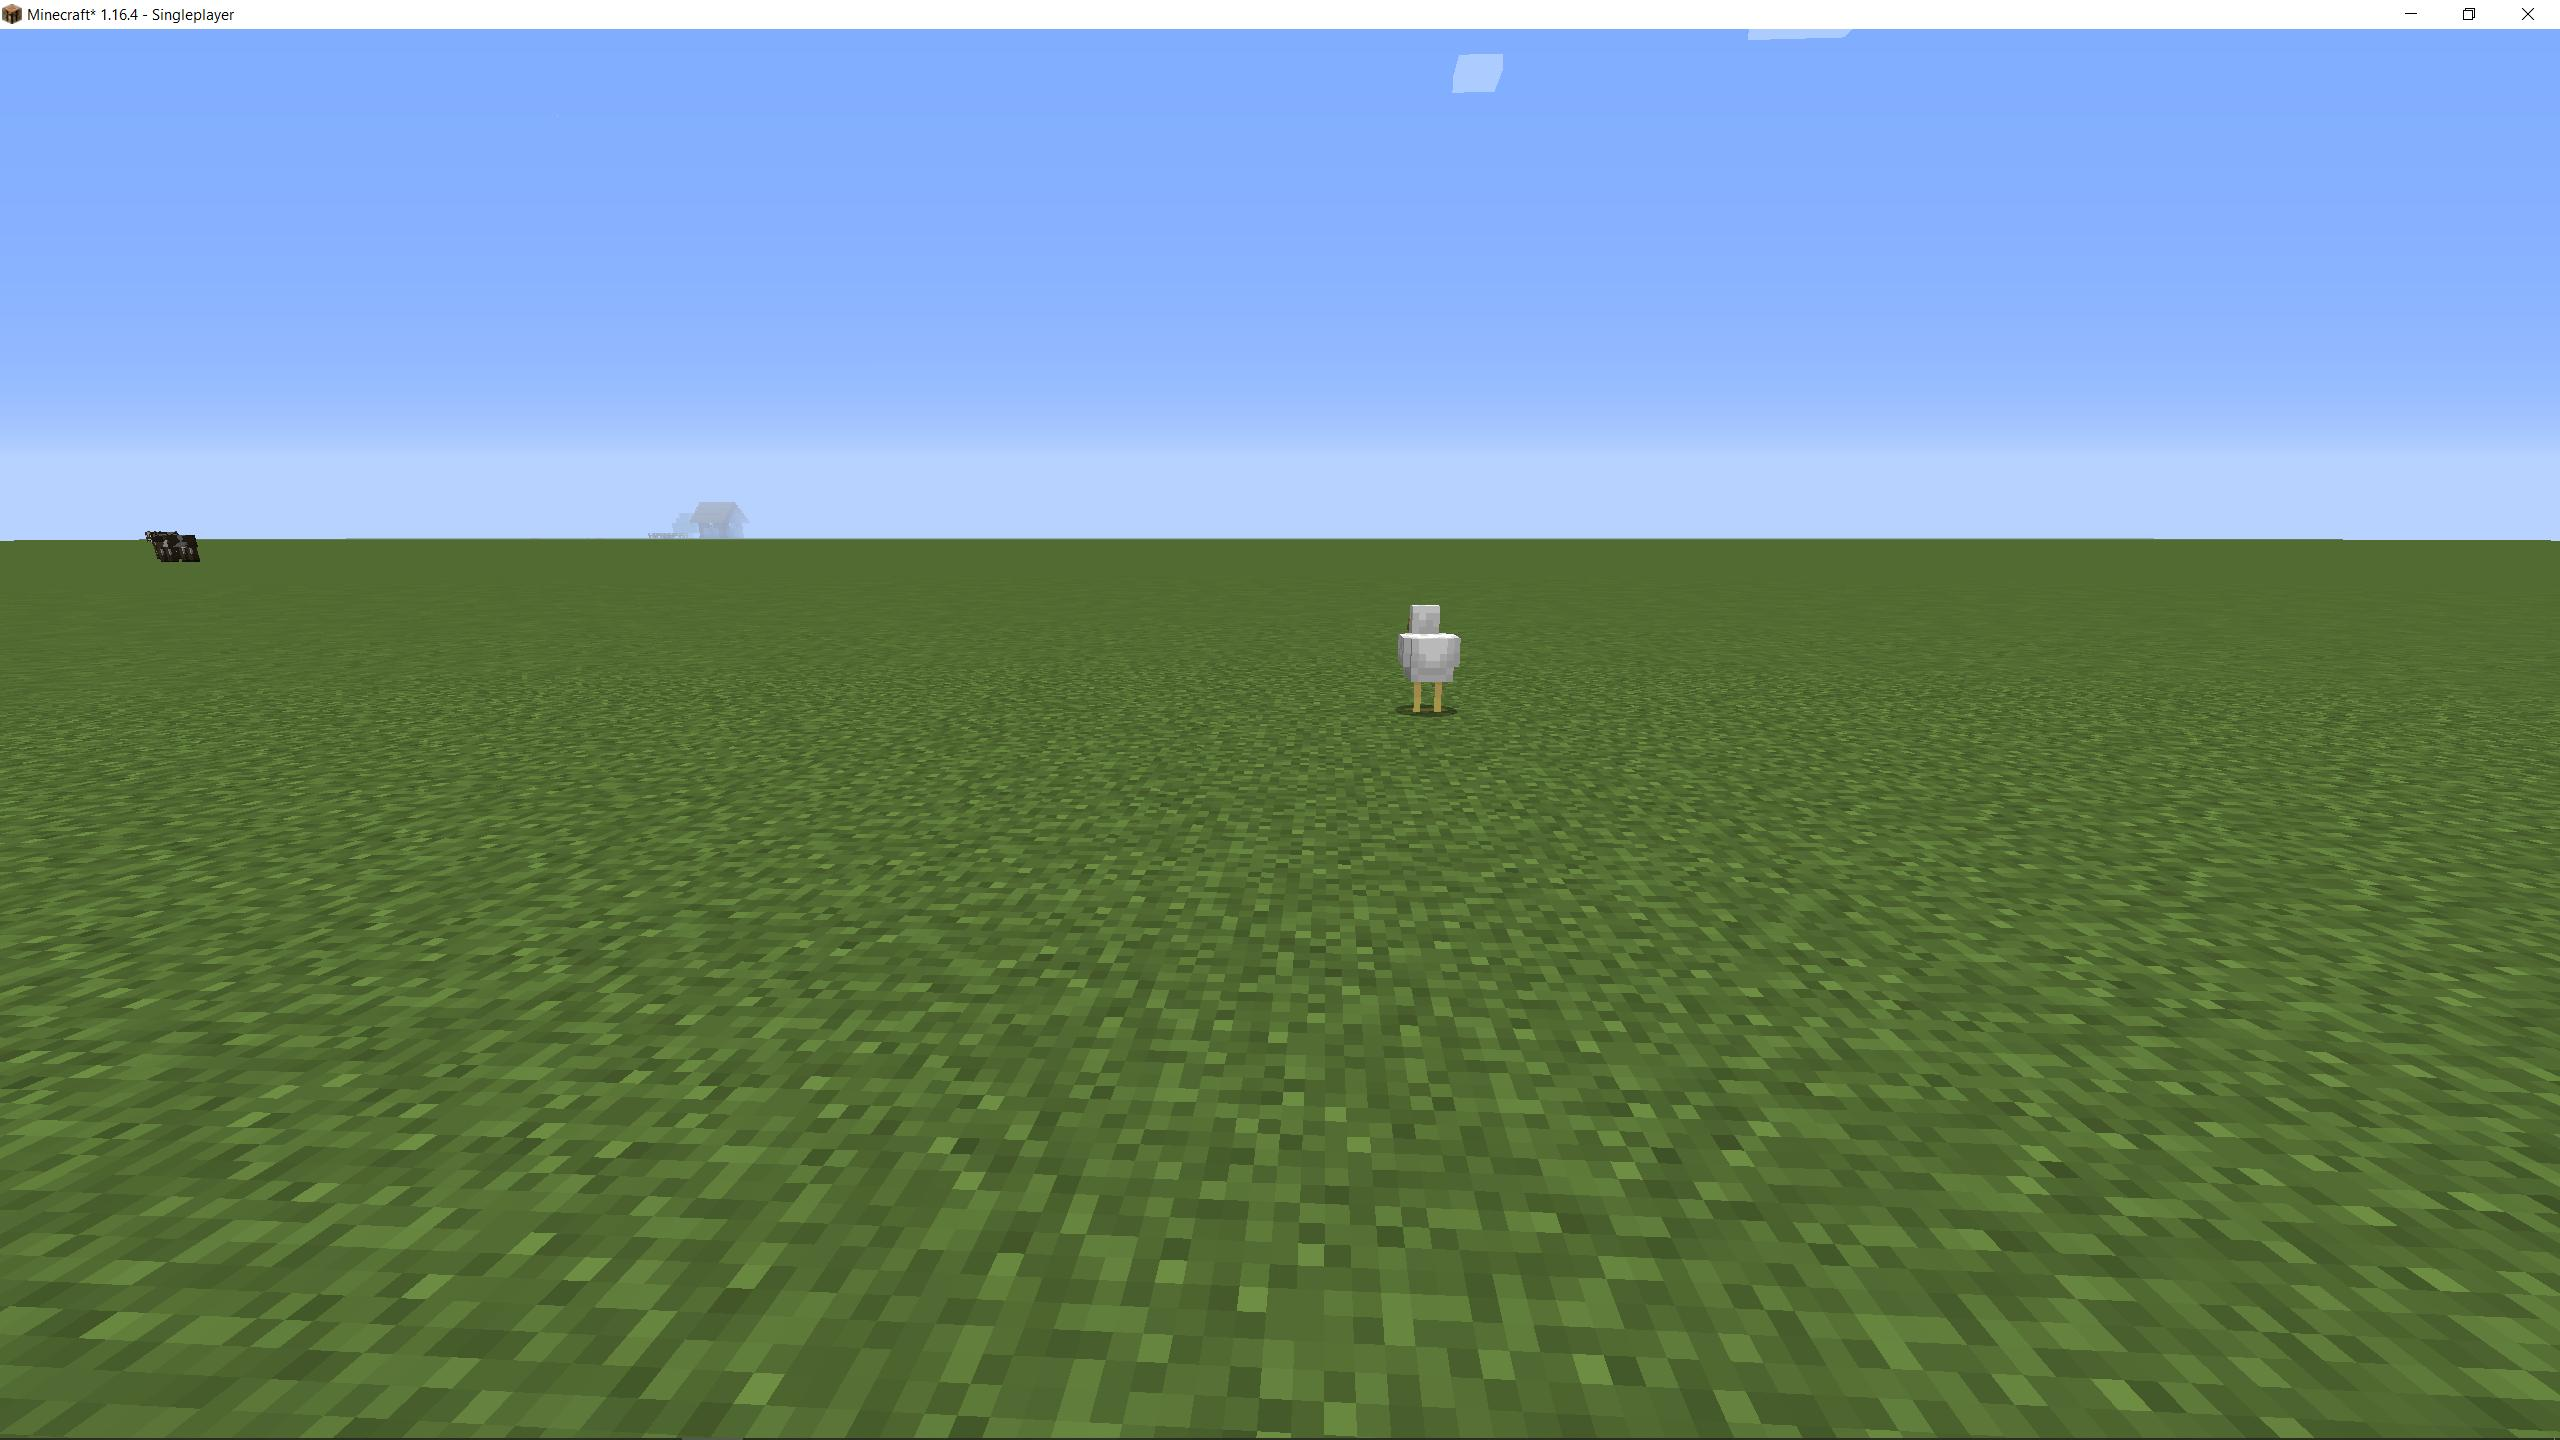chicken: (1391, 598, 1465, 726)
